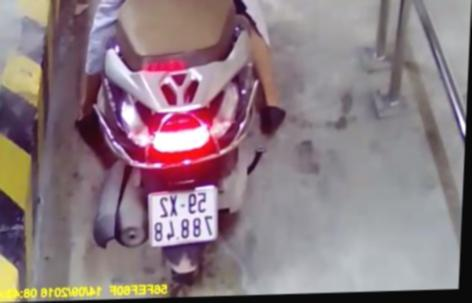License_Plate: (139, 180, 228, 251)
